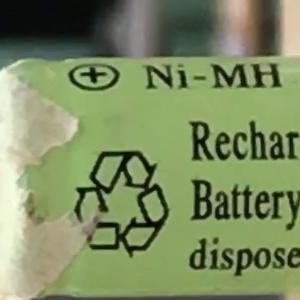keyword: (135, 53, 291, 99)
